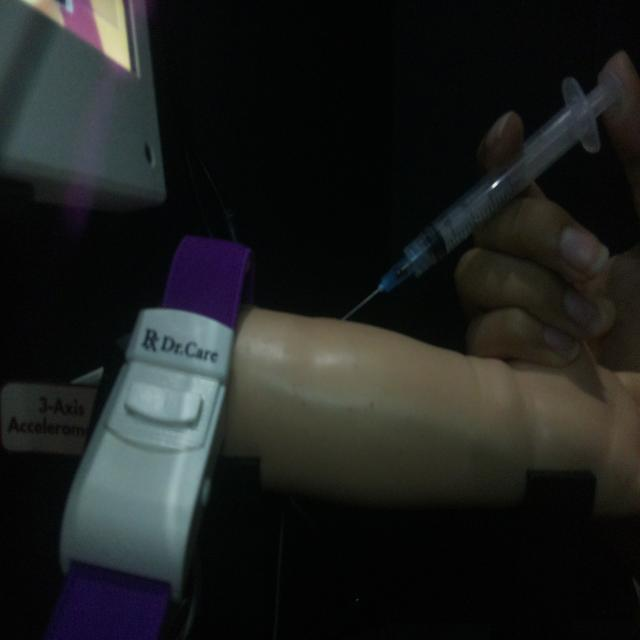30 degrees: (340, 66, 624, 322)
